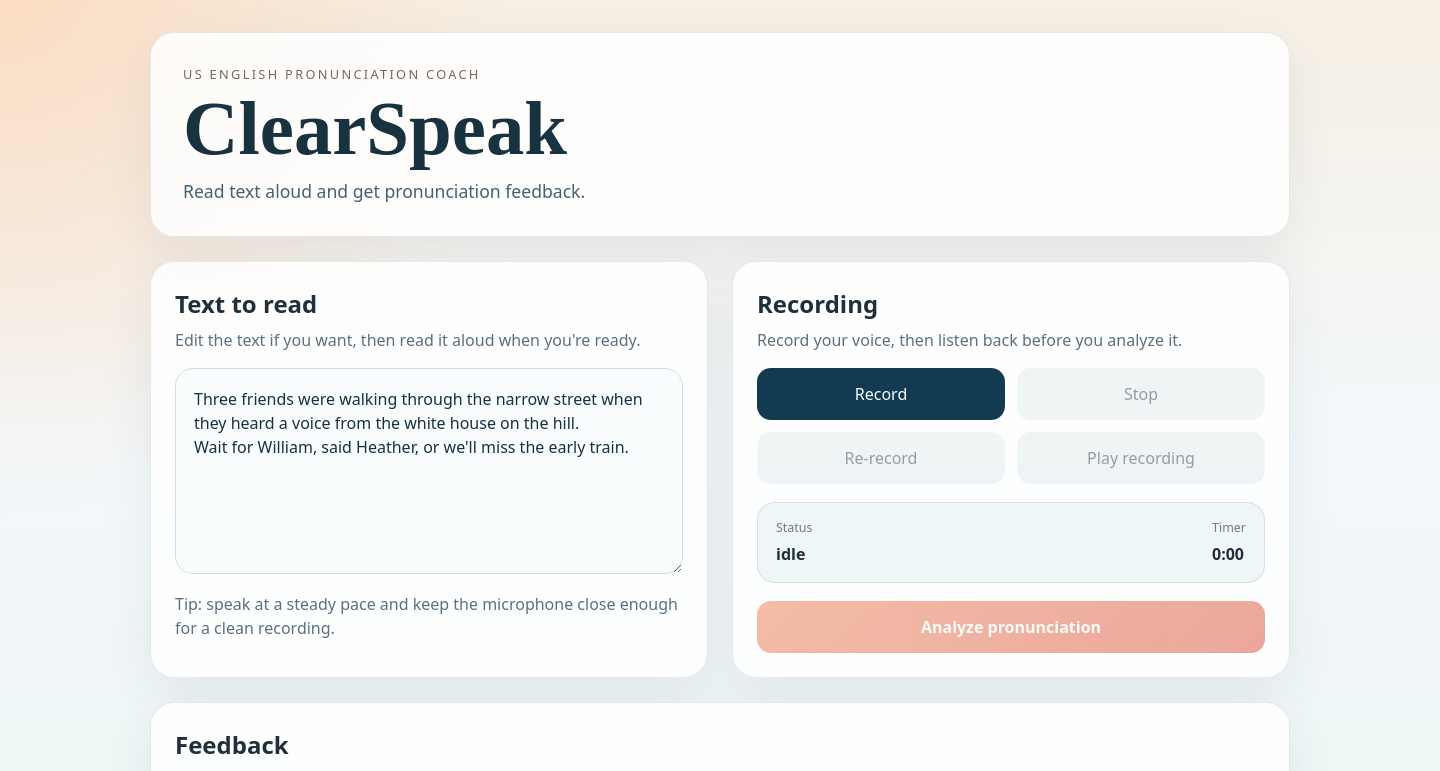
Test: shows an analysis error when the API fails
Click the button "Record" at (881, 394), box top-left (757, 368), bottom-right (1005, 420)
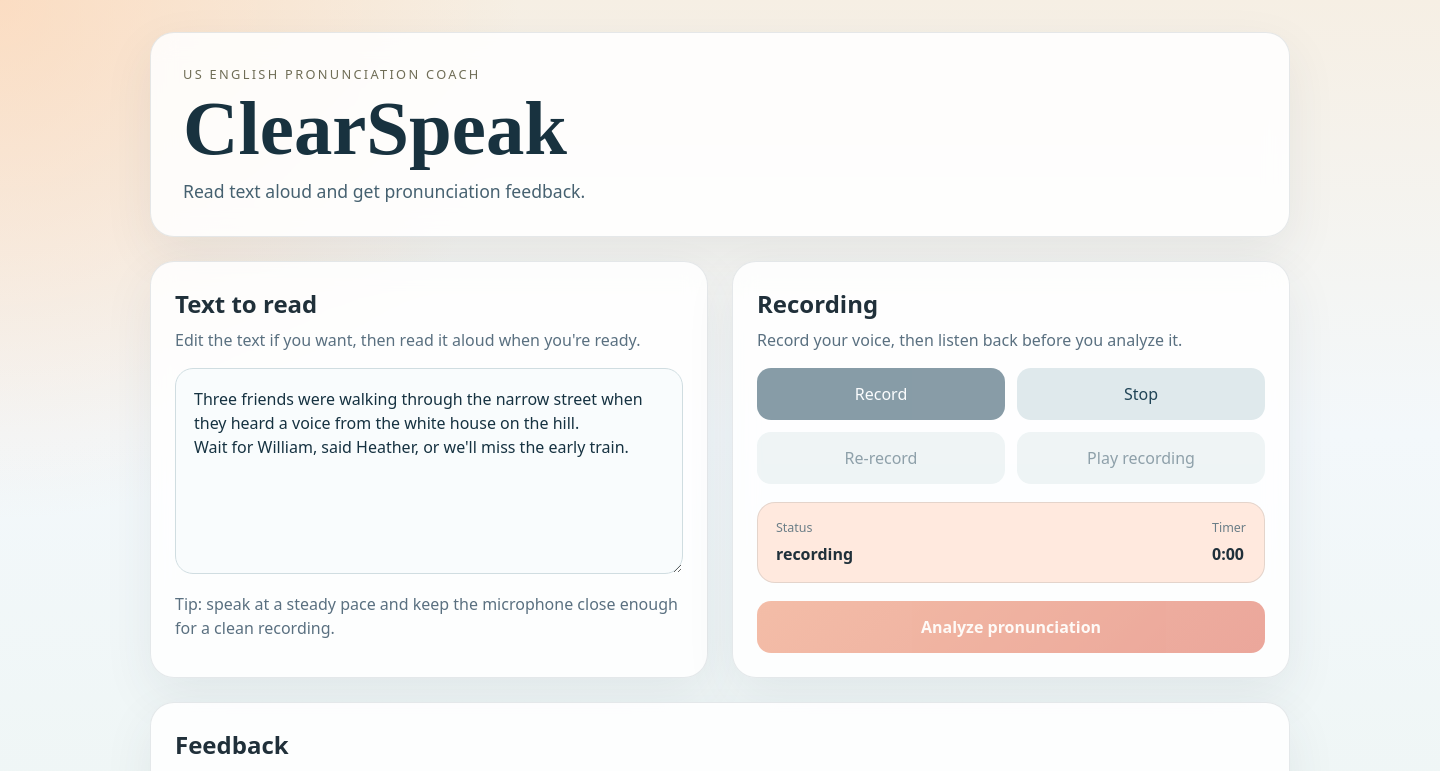
Expected: the button "Stop" is enabled
Click the button "Stop" at (1141, 394), box top-left (1017, 368), bottom-right (1265, 420)
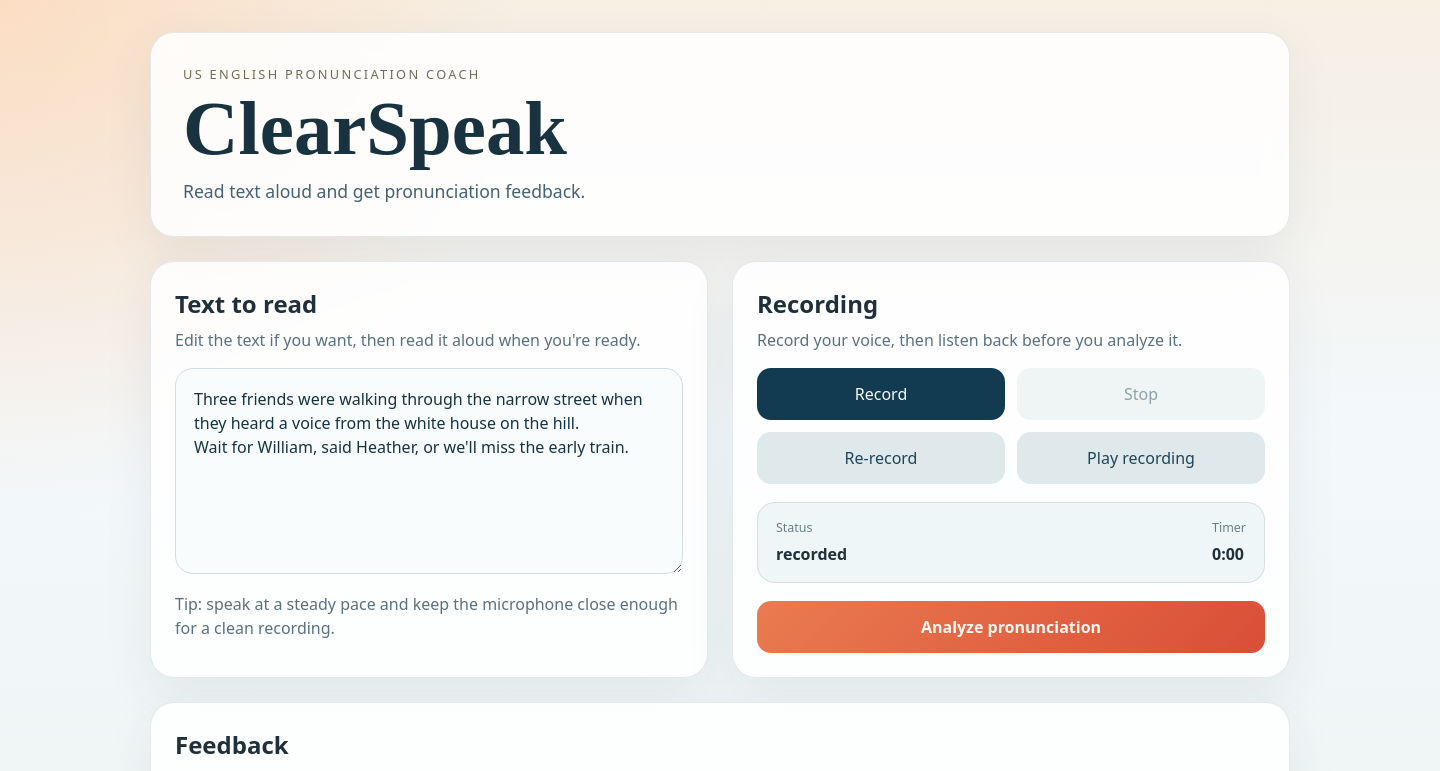
Expected: the button "Analyze pronunciation" is enabled
Click the button "Analyze pronunciation" at (1011, 627), box top-left (757, 601), bottom-right (1265, 653)
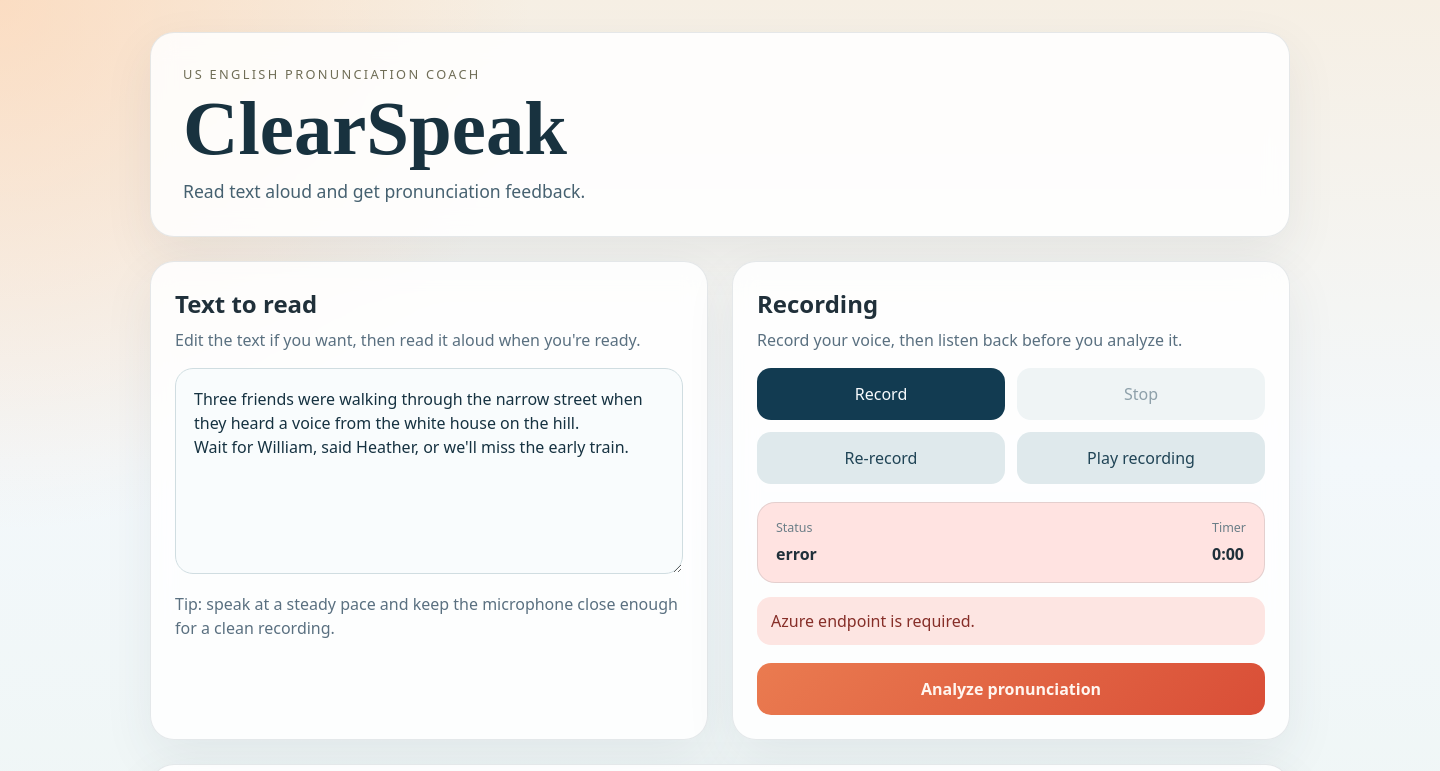
Expected: the text "Azure endpoint is required." is shown, top-left (757, 597), bottom-right (1265, 645)
